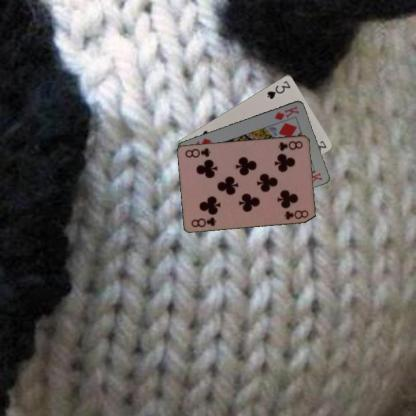3s: (264, 78, 292, 100)
8c: (189, 214, 218, 229), (276, 138, 305, 152)
Kd: (272, 103, 301, 121)
